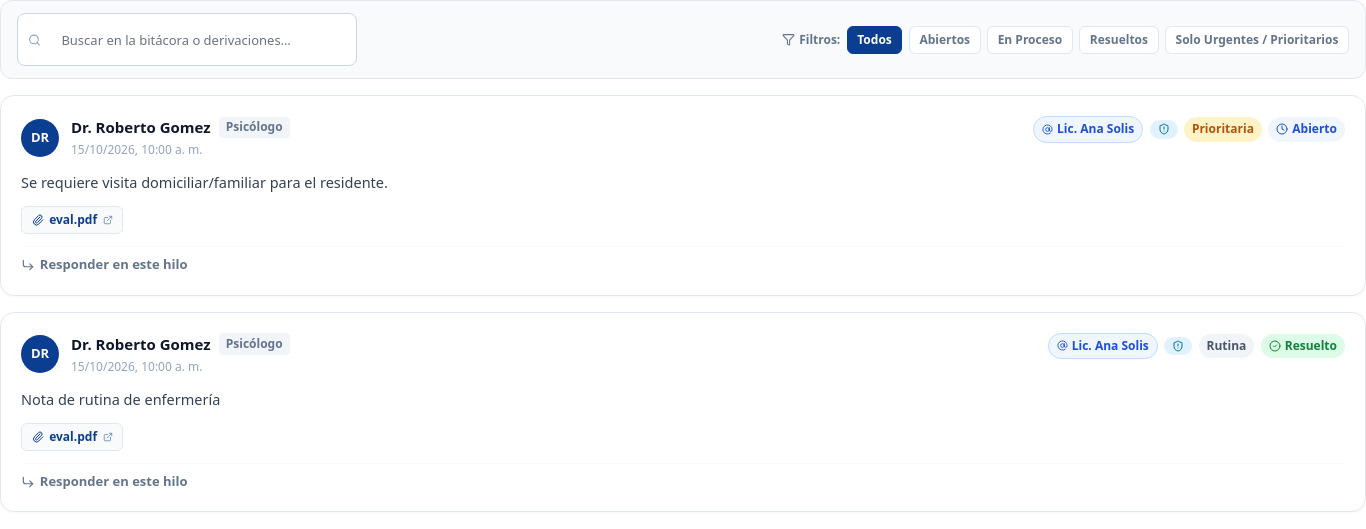
Memos Components › MemoFeed filters memos by search and status
Expected: the text "Se requiere visita domiciliar/familiar para el residente." is shown, [21,172,388,192]
Expected: the text "Nota de rutina de enfermería" is shown, [21,389,220,409]
Note: Click on "Abiertos" filter
Click the button "Abiertos". click: (945, 40)
box: [909,26,981,54]
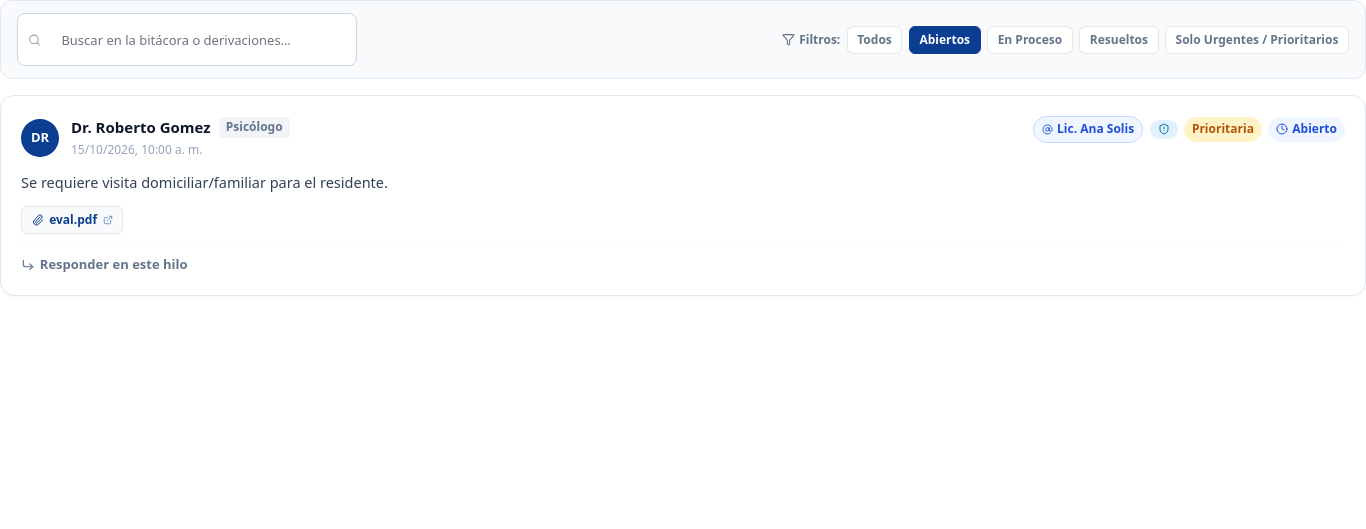
Expected: the text "Se requiere visita domiciliar/familiar para el residente." is shown, [21,172,388,192]
Expected: the text "Nota de rutina de enfermería" is gone
